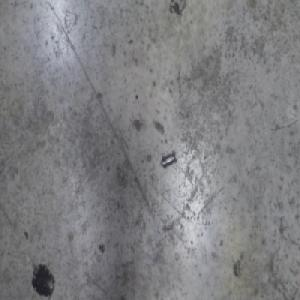Bolt: (160, 152, 176, 171)
